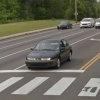Crosswalk: (5, 66, 100, 99)
